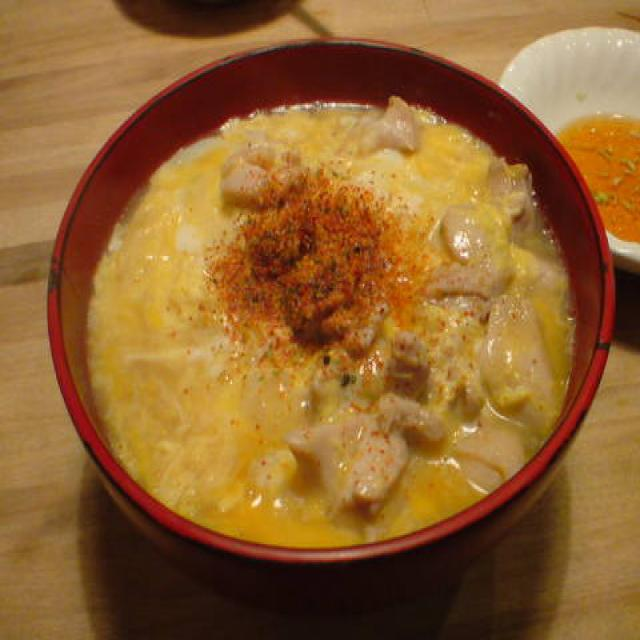米饭主食: (33, 55, 590, 549)
